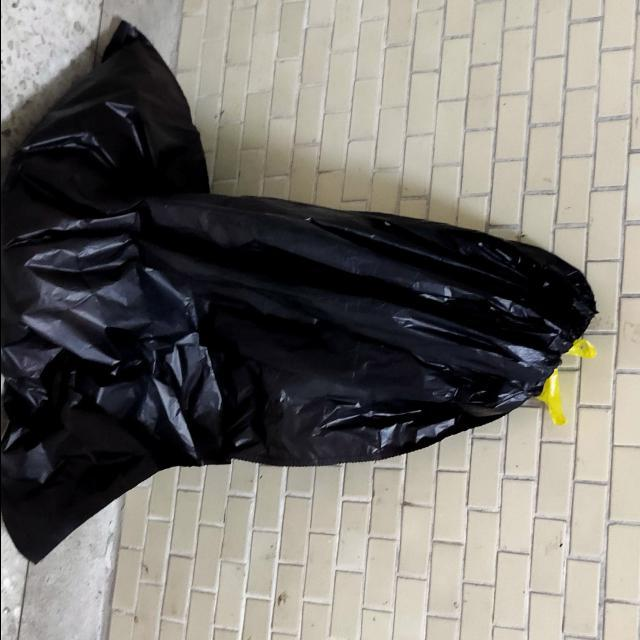Trashbag: (6, 8, 603, 568)
